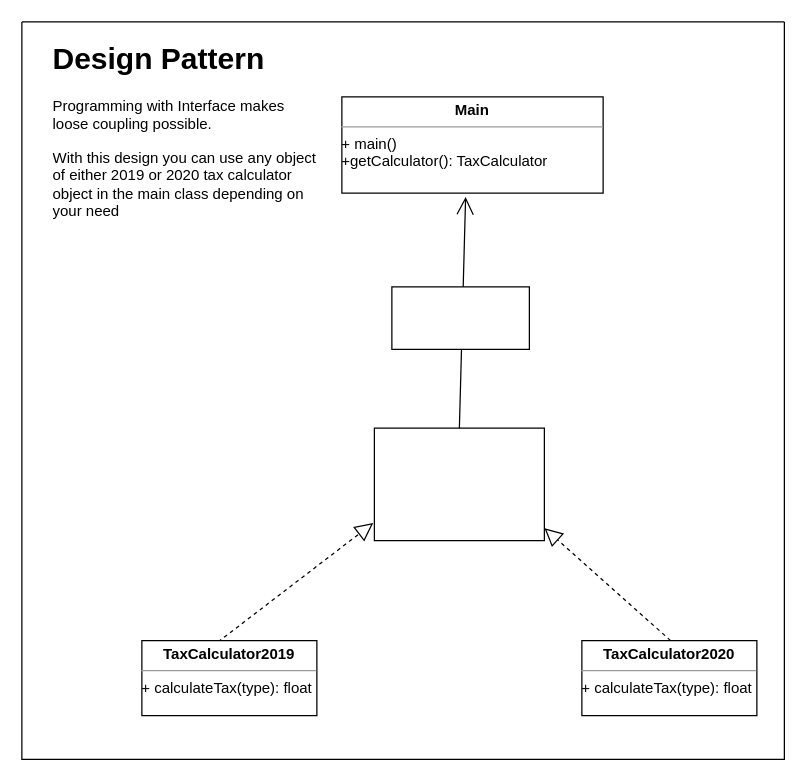
Some shapes in this 806 by 781 pixel diagram are drawn without their labels. Here are the shapes that lost their labels. From the top down, the box of each, then its label:
(391, 286, 529, 349): TaxCalculator
(373, 427, 544, 541): «interface» TaxCalculator +calculateTax() :float
